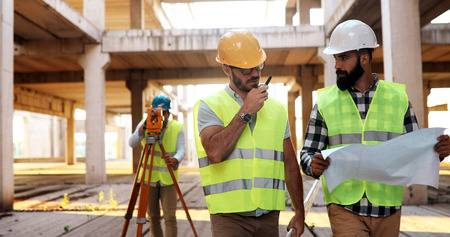casco: (323, 19, 380, 55), (215, 30, 266, 69), (151, 95, 171, 112)
